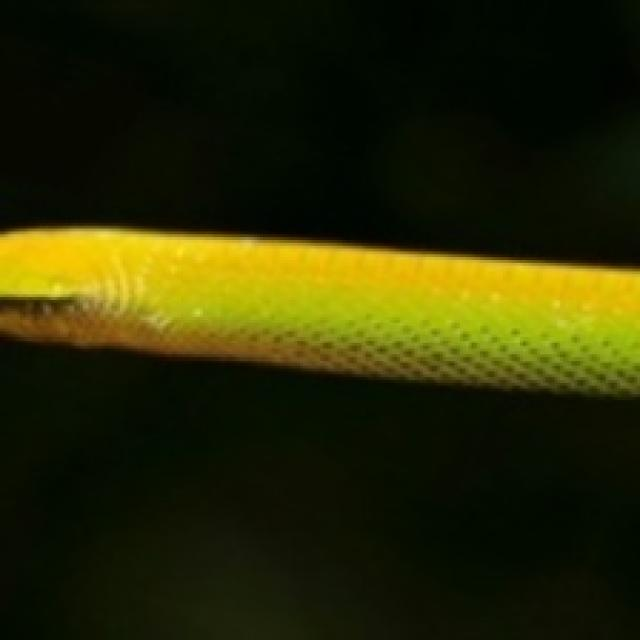red-tailed green ratsnake: (0, 229, 637, 394)
